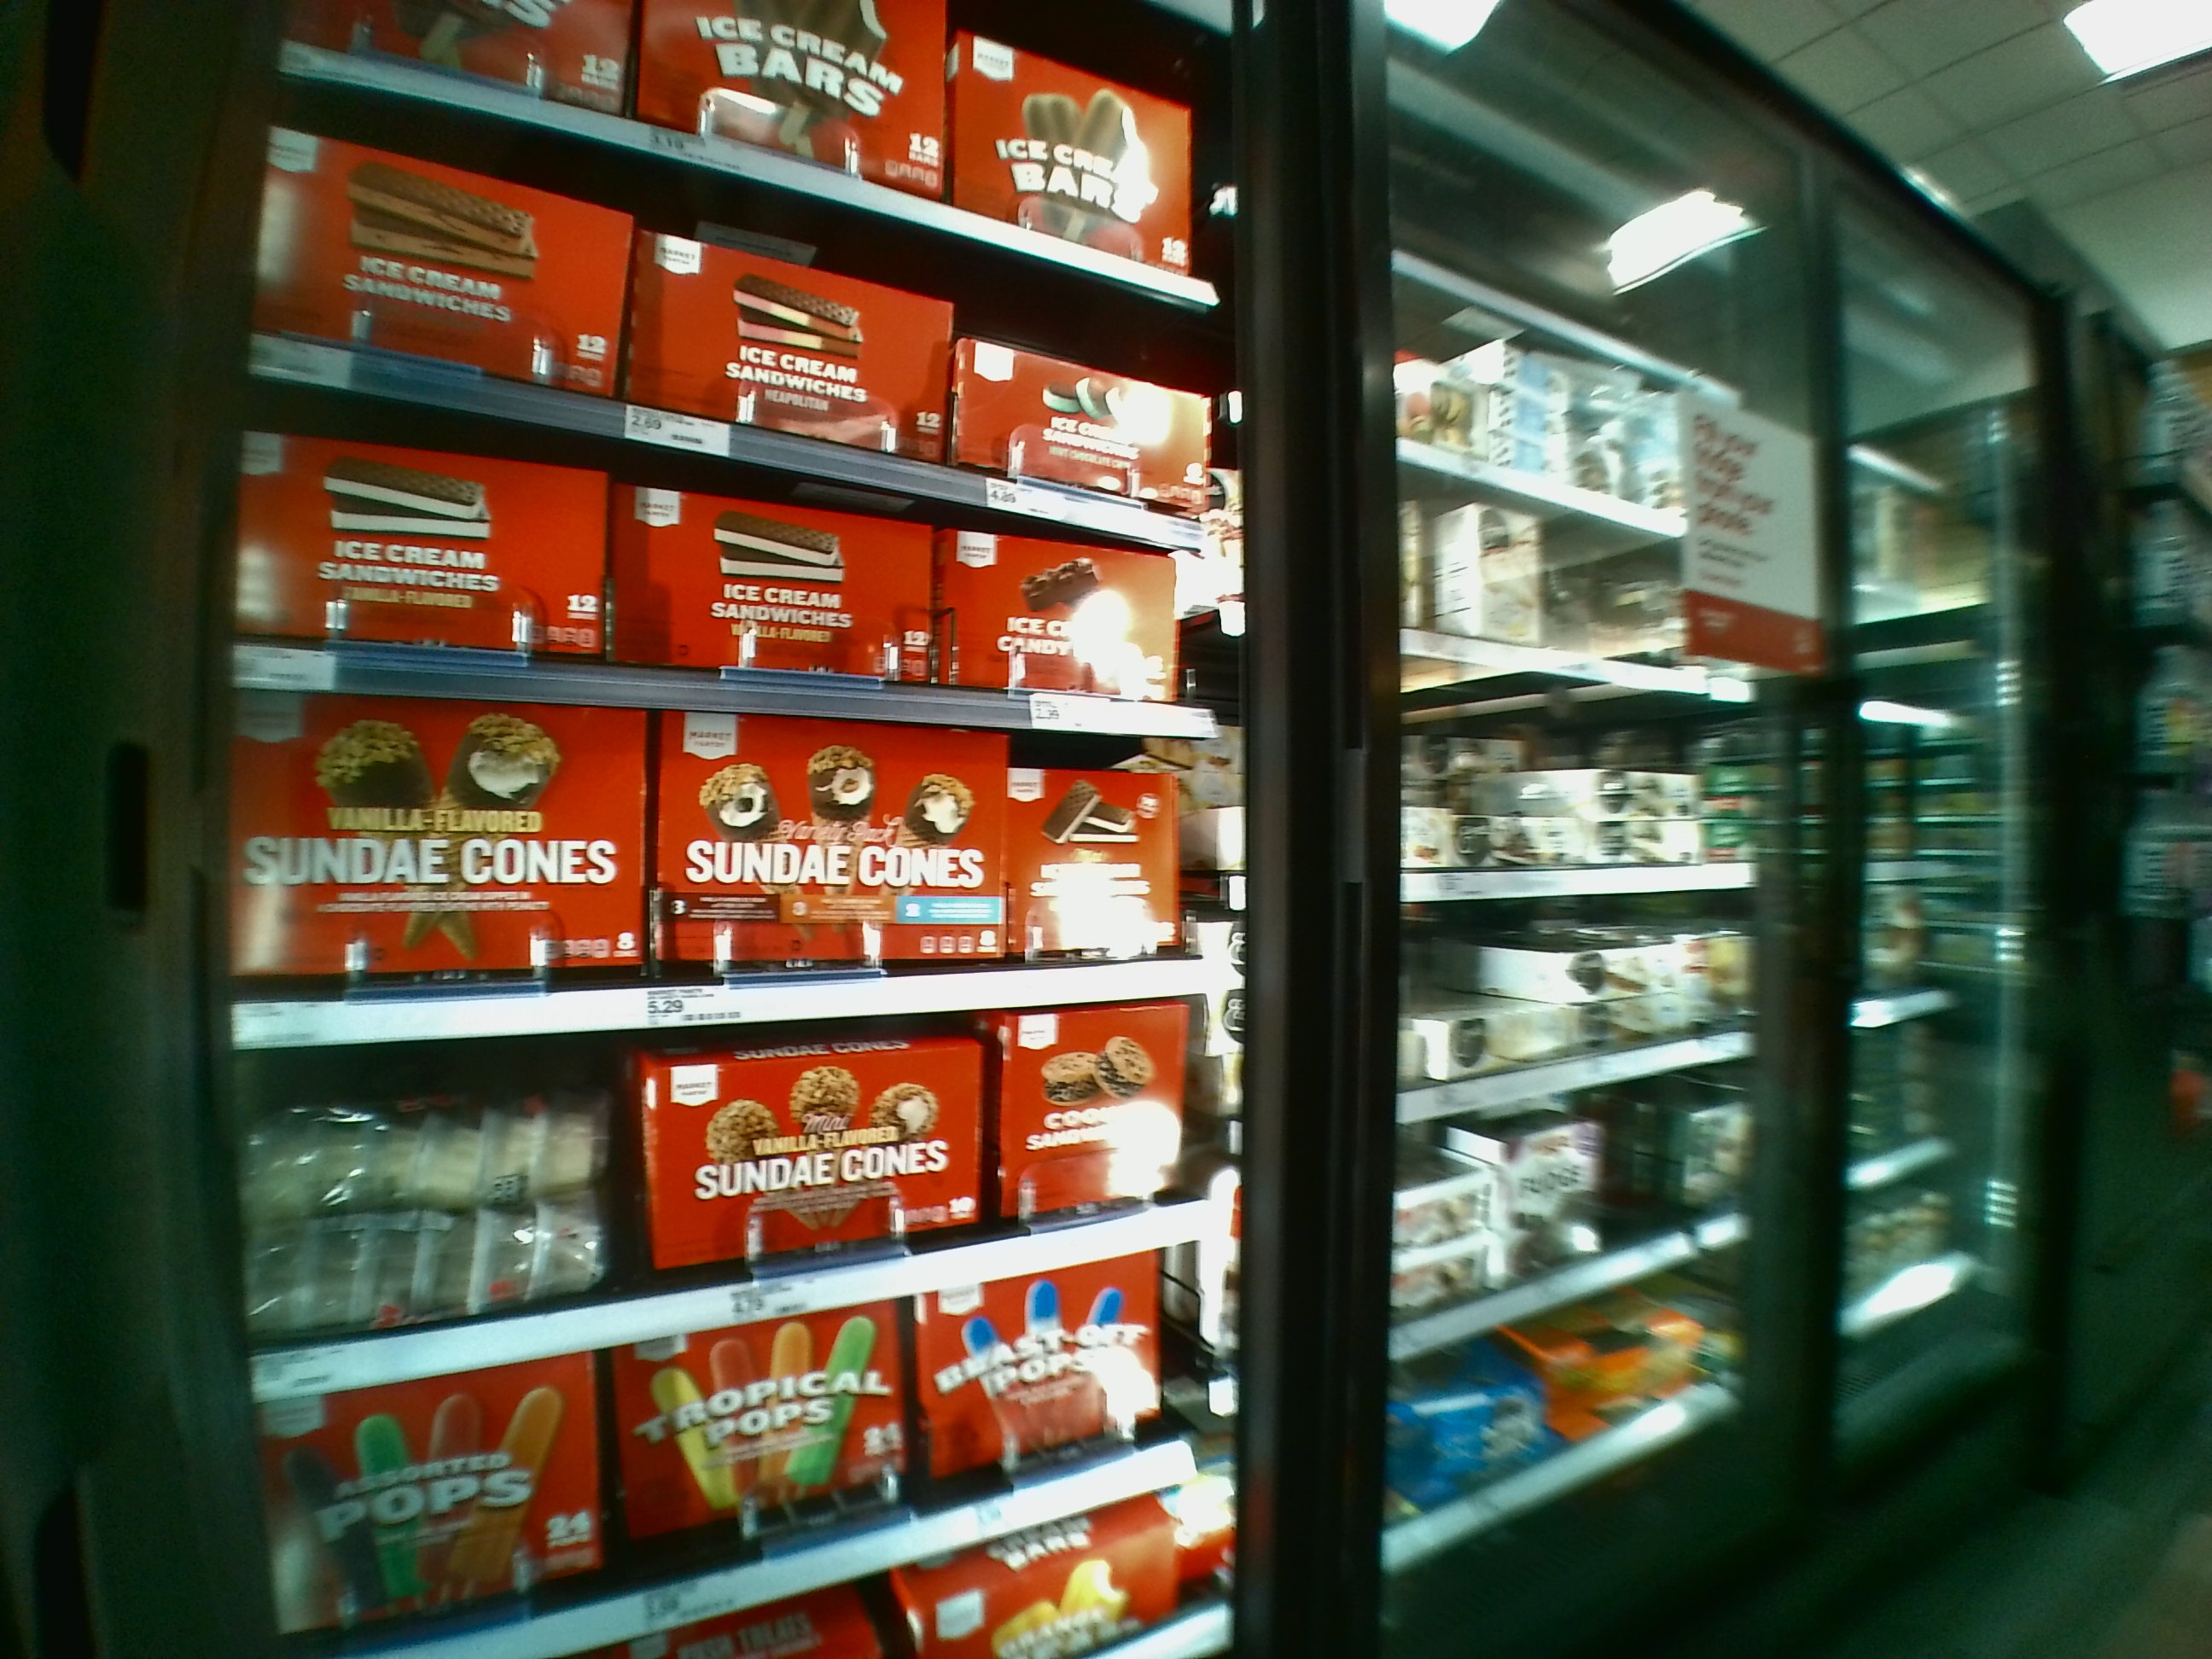shelf: (232, 418, 1219, 746), (233, 1000, 1264, 1297), (223, 711, 1233, 993)
